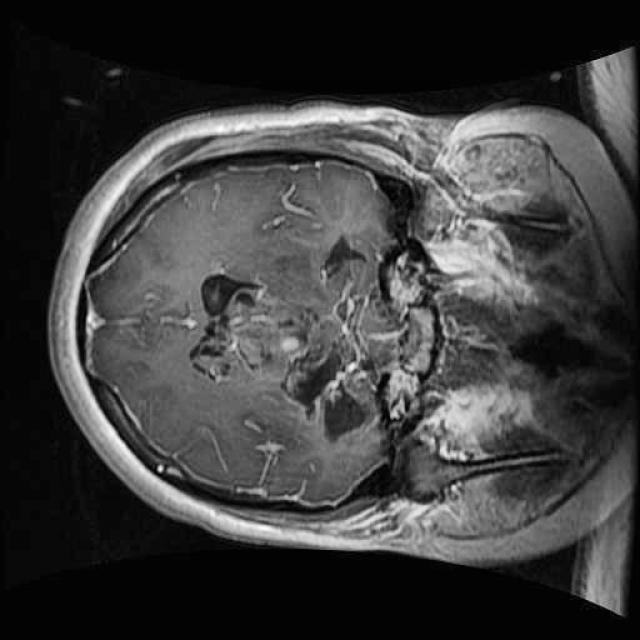Tumor: (179, 252, 407, 452)
